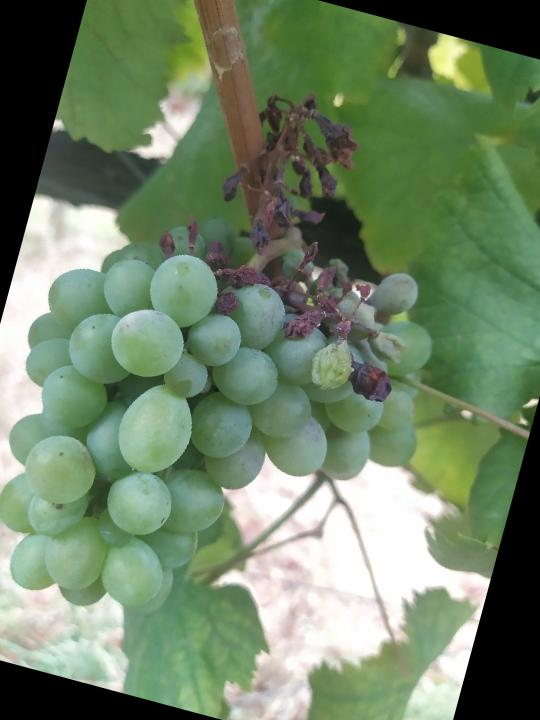grape: (0, 31, 501, 682)
